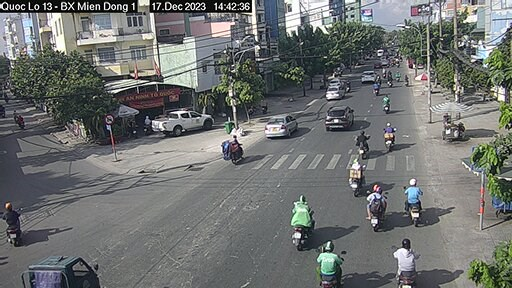car: (152, 112, 214, 134), (267, 110, 291, 142), (327, 105, 351, 129), (326, 82, 346, 103), (362, 71, 375, 83)
motorbike: (305, 234, 342, 287), (389, 236, 423, 285), (286, 195, 313, 250), (402, 181, 424, 234), (340, 157, 371, 187), (366, 185, 388, 224), (379, 121, 397, 151), (354, 134, 375, 153), (381, 93, 394, 121)
